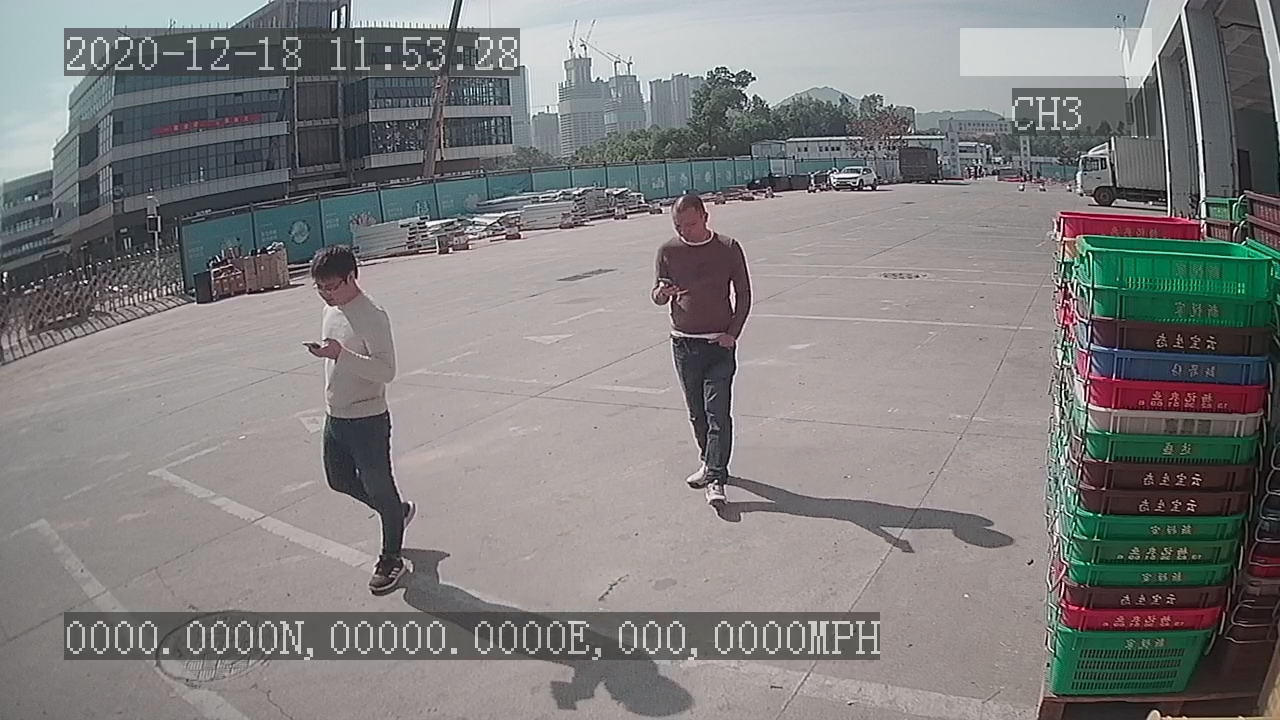person: (299, 236, 418, 606), (640, 188, 758, 519)
